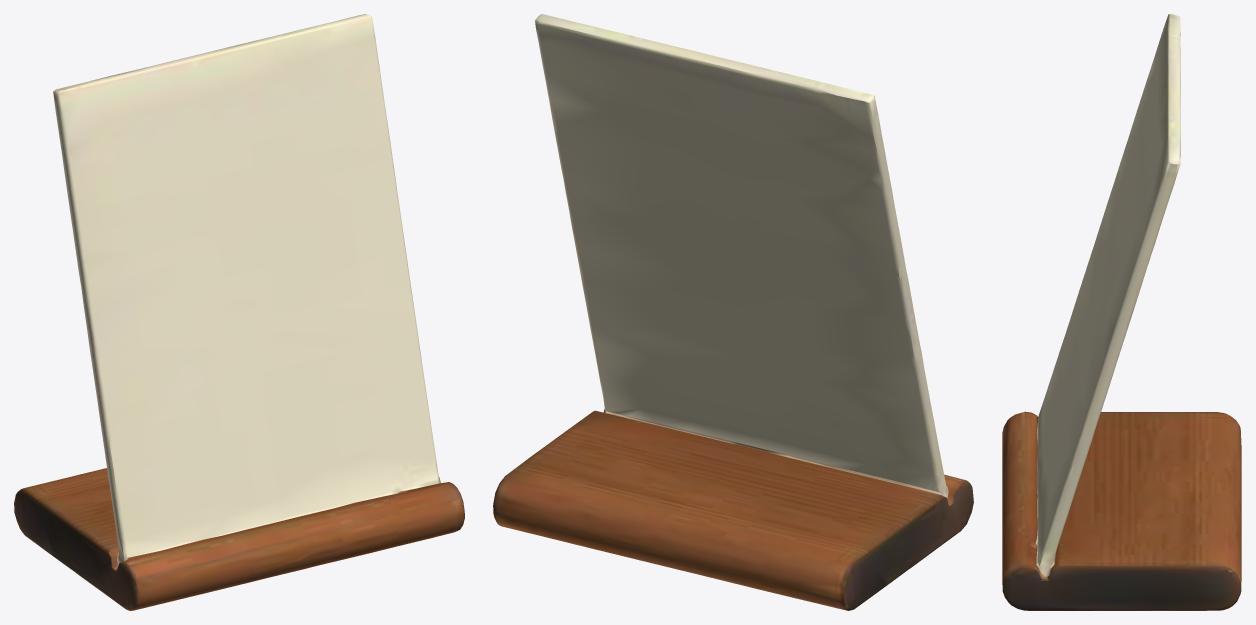
Rendered from menu.glb.
The picture shows the model from 3 angles, left to right: view 1: azimuth 30°, elevation 25°; view 2: azimuth 150°, elevation 25°; view 3: azimuth 270°, elevation 25°; orthographic projection. The views are drawn at different scales.
Visible parts, largest first — view 1: menu; view 2: menu; view 3: menu.
Boxes of the visible parts, left/top/right/bottom form: menu: left=14, top=14, right=464, bottom=610; menu: left=493, top=14, right=973, bottom=610; menu: left=1002, top=14, right=1241, bottom=610.
Bounding box in the file's own units: 0.1492 × 0.2 × 0.0969.
1 material, 1 textured.
